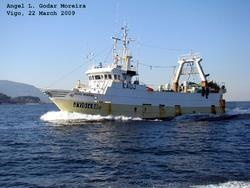otherboat: (35, 21, 228, 126)
